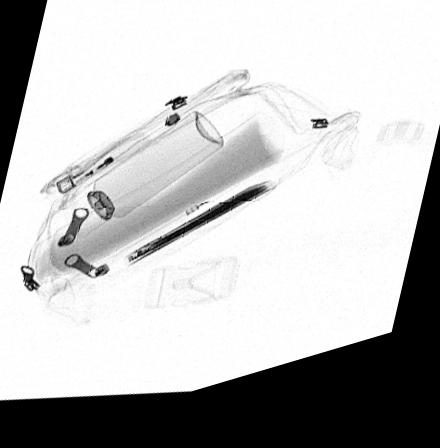Lighter: (55, 134, 154, 197)
Powerbank: (122, 195, 275, 273)
Sprayer: (59, 122, 222, 239)
